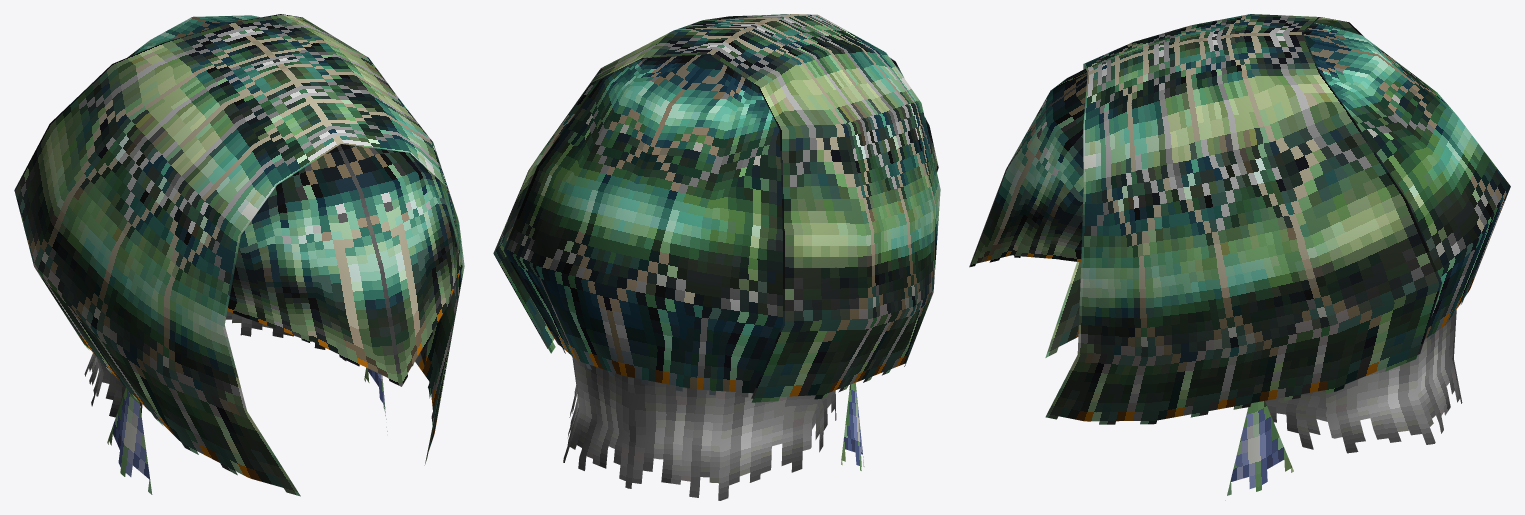
File: m_hair092.glb
3 views of the same model, side by side, from view 1: azimuth 30°, elevation 25°; view 2: azimuth 150°, elevation 25°; view 3: azimuth 270°, elevation 25° (orthographic). The views are drawn at different scales.
Bounding box in the file's own units: 21.36 × 23.84 × 28.43.
1 material, 1 textured.
